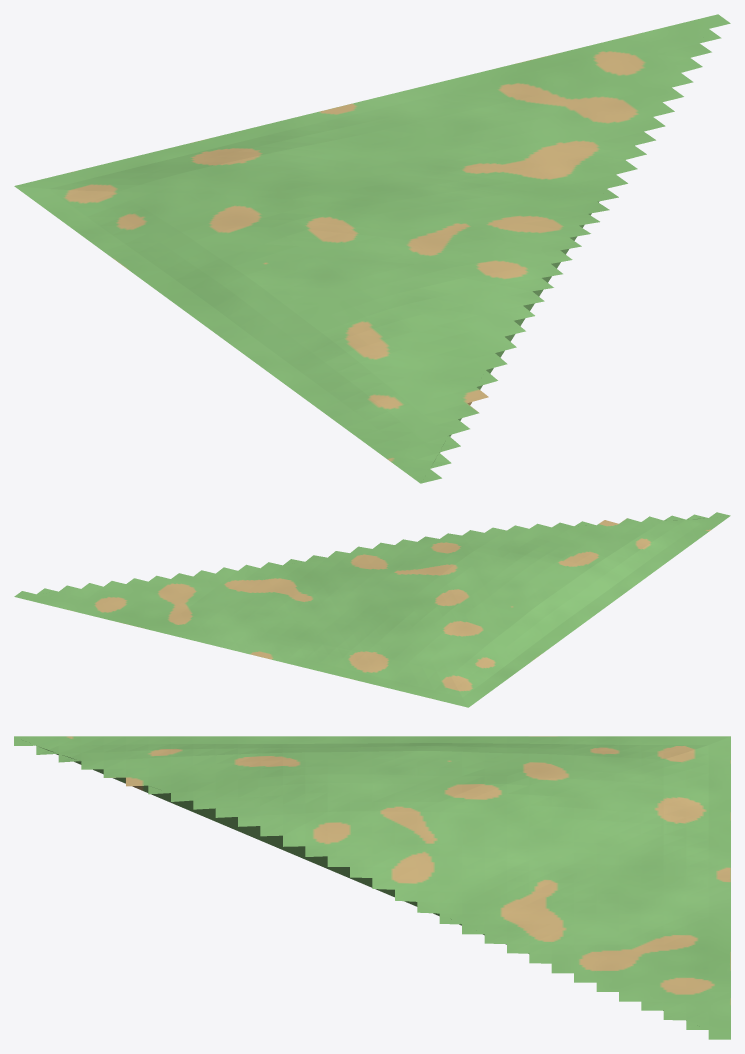
Rendered from Grass_Flat_05_SW.obj.
3 views of the same model, one above another, from view 1: azimuth 30°, elevation 25°; view 2: azimuth 150°, elevation 25°; view 3: azimuth 270°, elevation 25° (orthographic). The views are drawn at different scales.
Size of the model in its own units: 10 by 0.3049 by 10.
1 material, 1 textured.
